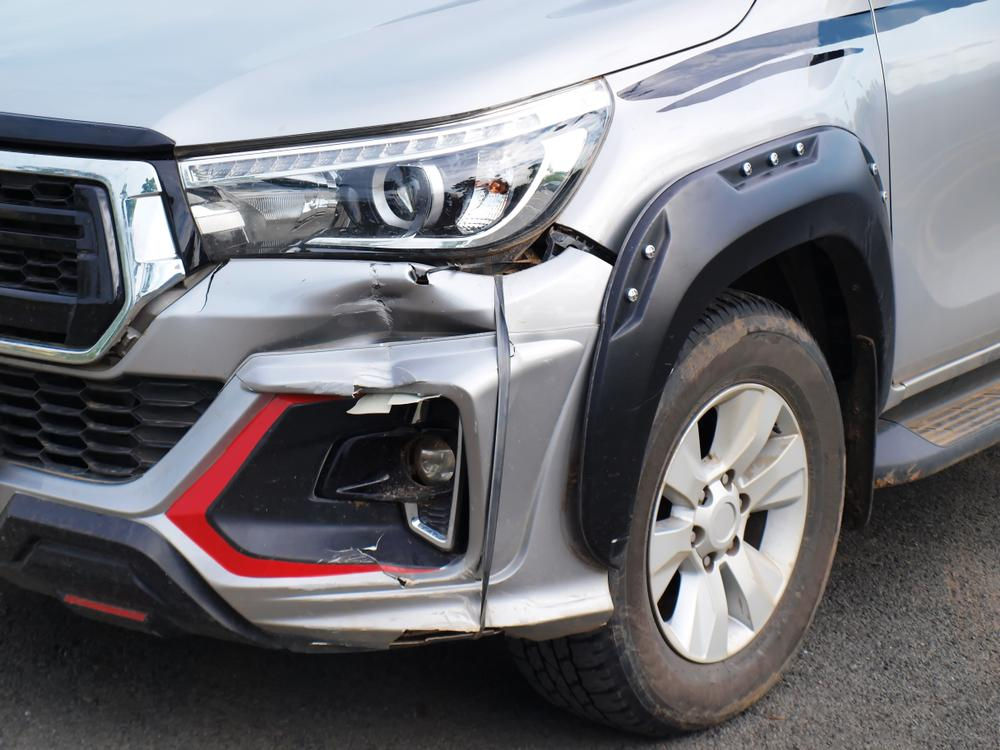crack: (326, 530, 414, 590), (199, 257, 235, 314), (382, 628, 477, 649), (408, 268, 430, 285)
dent: (278, 278, 515, 394)
